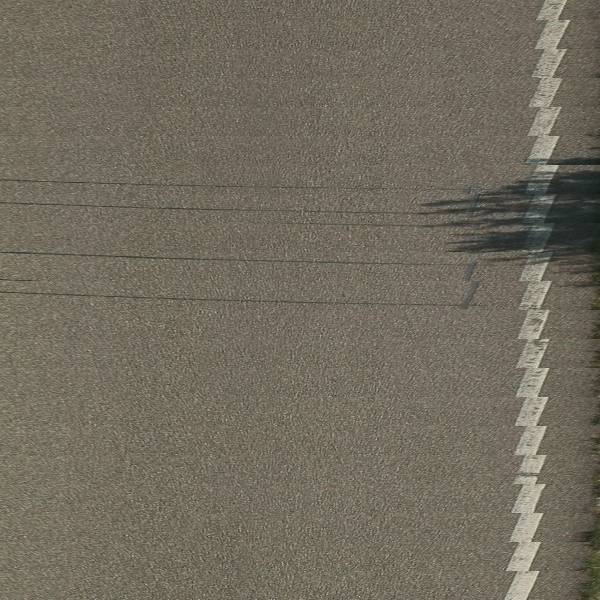road_damage: (1, 245, 482, 311), (2, 174, 484, 229)
